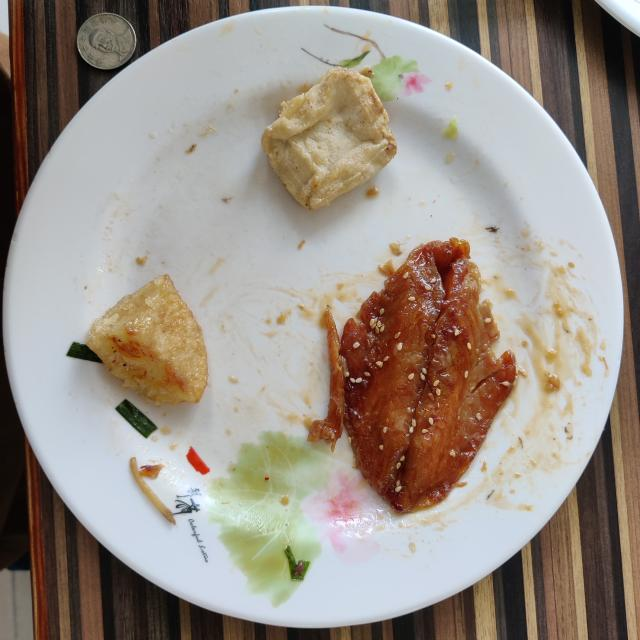Kabayaki sea bream fillet: (308, 239, 516, 512)
coin: (78, 12, 136, 70)
creamy tofu -without sauce-: (261, 68, 396, 210)
fried potato: (86, 275, 208, 404)
